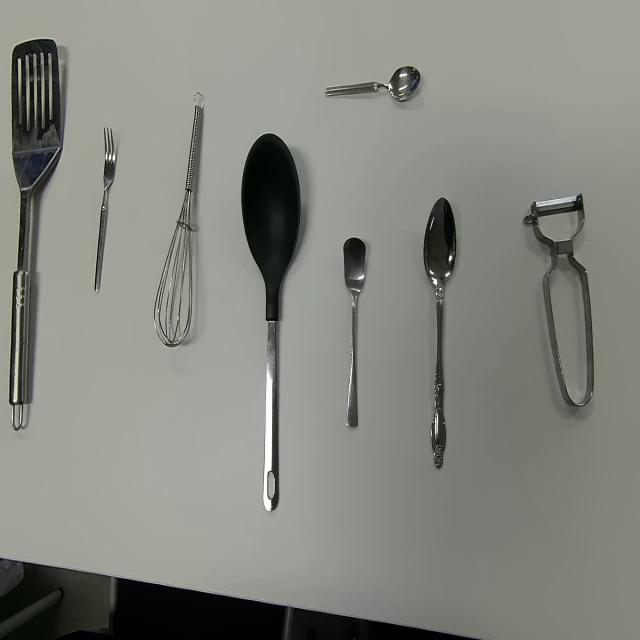Desert-Spoon: (423, 196, 457, 471)
Dinner-Fork: (93, 124, 117, 296)
Peeler: (522, 190, 594, 410)
Serving-Spoon: (240, 132, 301, 514), (8, 35, 62, 432)
Tea-Spoon: (342, 234, 367, 431), (325, 62, 421, 103)
Whisk: (153, 90, 205, 349)
